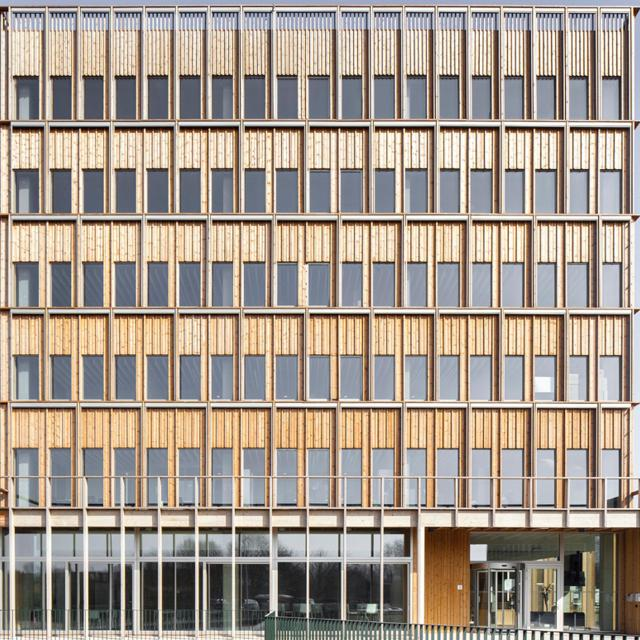Railing: (0, 610, 640, 640)
door: (470, 562, 520, 630), (522, 558, 563, 632)
wall: (0, 6, 640, 640)
windows: (3, 530, 409, 624), (468, 533, 616, 630), (370, 450, 394, 506), (243, 449, 266, 505), (114, 448, 136, 506), (16, 450, 38, 507), (48, 449, 70, 505), (435, 450, 457, 506), (470, 450, 492, 506), (277, 448, 298, 505), (406, 446, 426, 505), (568, 450, 589, 506), (179, 448, 200, 504), (503, 450, 522, 508), (84, 451, 104, 506), (342, 448, 362, 503), (309, 448, 328, 504), (536, 449, 554, 507), (566, 263, 589, 308), (605, 450, 624, 504), (245, 75, 269, 117), (307, 77, 331, 119), (564, 76, 588, 118), (80, 170, 104, 212), (145, 264, 169, 306), (372, 264, 396, 306), (144, 359, 168, 401), (371, 359, 395, 401), (150, 451, 168, 506), (373, 77, 397, 118), (437, 76, 461, 117), (15, 172, 39, 213), (145, 171, 169, 212), (210, 169, 234, 210), (372, 171, 396, 212), (15, 266, 39, 307), (80, 264, 104, 305), (210, 263, 234, 304), (14, 361, 38, 402), (79, 359, 103, 400), (209, 358, 233, 399), (243, 358, 267, 399), (306, 356, 330, 397), (17, 78, 40, 120), (82, 76, 105, 118), (212, 75, 235, 117), (244, 169, 267, 211), (563, 170, 586, 212), (436, 263, 459, 305), (435, 358, 458, 400), (602, 76, 623, 121), (147, 77, 170, 118), (306, 171, 329, 212), (436, 170, 459, 211), (244, 263, 267, 304), (306, 265, 329, 306), (562, 359, 585, 400), (215, 448, 231, 504), (604, 262, 623, 309), (51, 171, 70, 215), (51, 265, 70, 309), (115, 359, 134, 402), (118, 76, 136, 120), (183, 76, 201, 120), (278, 74, 296, 118), (342, 76, 360, 120), (538, 74, 556, 118), (182, 170, 200, 214), (276, 168, 294, 212), (471, 169, 489, 213), (537, 168, 555, 212), (116, 263, 134, 307), (504, 264, 522, 308), (471, 263, 489, 307), (50, 360, 68, 404), (504, 359, 522, 403), (342, 355, 360, 399), (410, 356, 428, 400), (470, 358, 488, 402), (53, 78, 71, 121), (506, 77, 524, 120), (472, 76, 490, 119), (598, 170, 616, 213), (116, 170, 134, 213), (504, 171, 522, 214), (600, 170, 618, 213), (182, 264, 200, 307), (276, 262, 294, 305), (537, 262, 555, 305), (599, 359, 617, 402), (180, 359, 198, 402), (276, 357, 294, 400), (536, 357, 554, 400), (342, 263, 359, 307), (411, 261, 428, 305), (412, 74, 429, 117), (342, 170, 359, 213), (411, 168, 428, 211)
